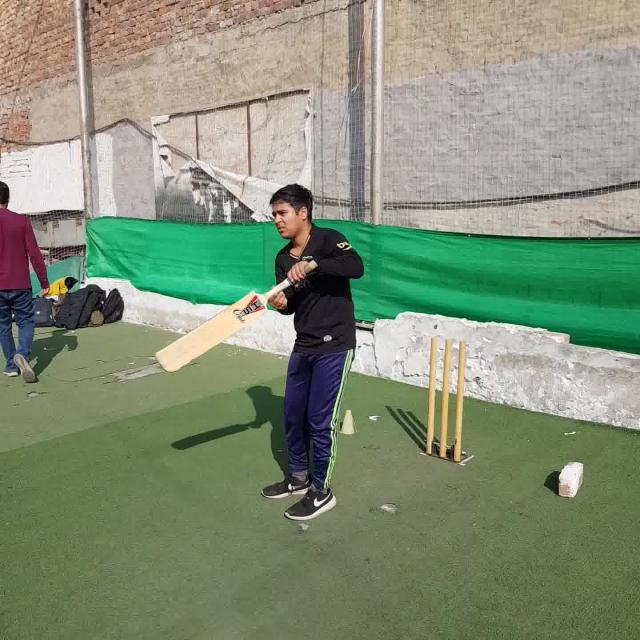bat: (155, 258, 317, 374)
